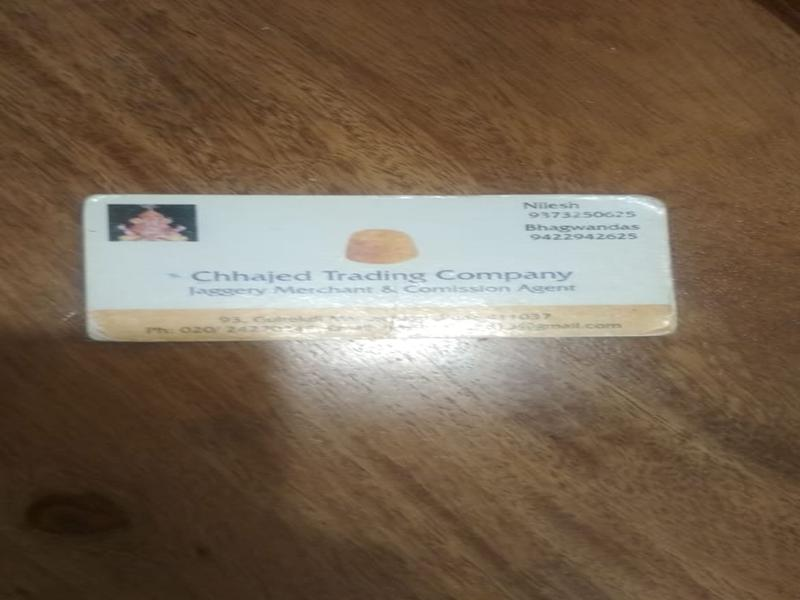card: (78, 191, 683, 342)
